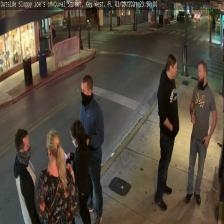person: (184, 60, 217, 204), (78, 74, 104, 224), (154, 54, 179, 210), (36, 129, 76, 223), (66, 119, 90, 224), (14, 128, 38, 223)
